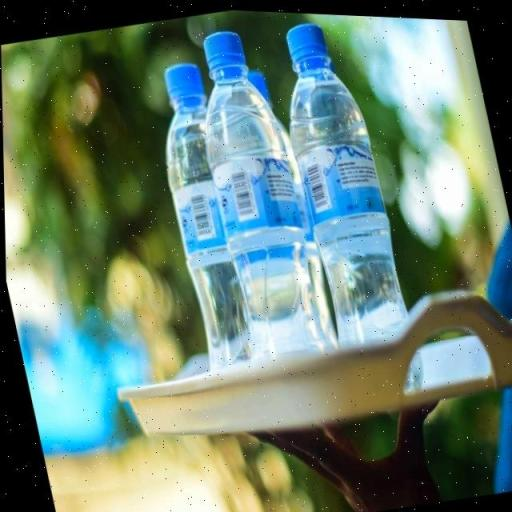plastic: (179, 14, 333, 362), (264, 9, 415, 346), (140, 53, 266, 370)
